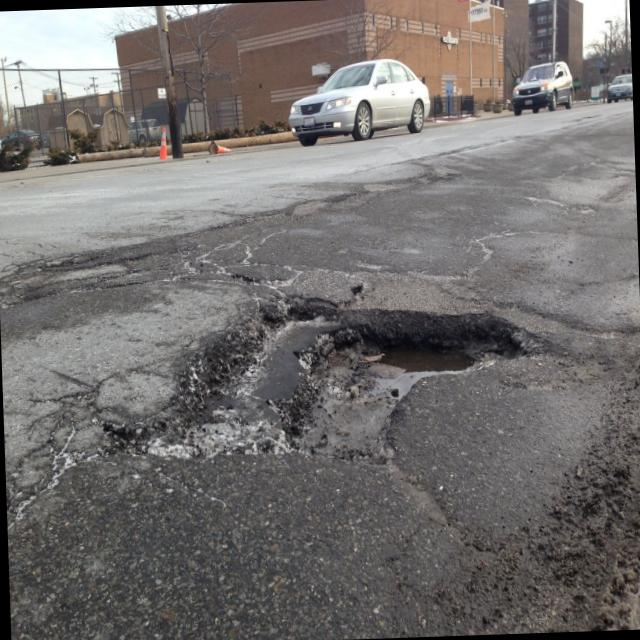Potholes: (73, 258, 522, 486)
